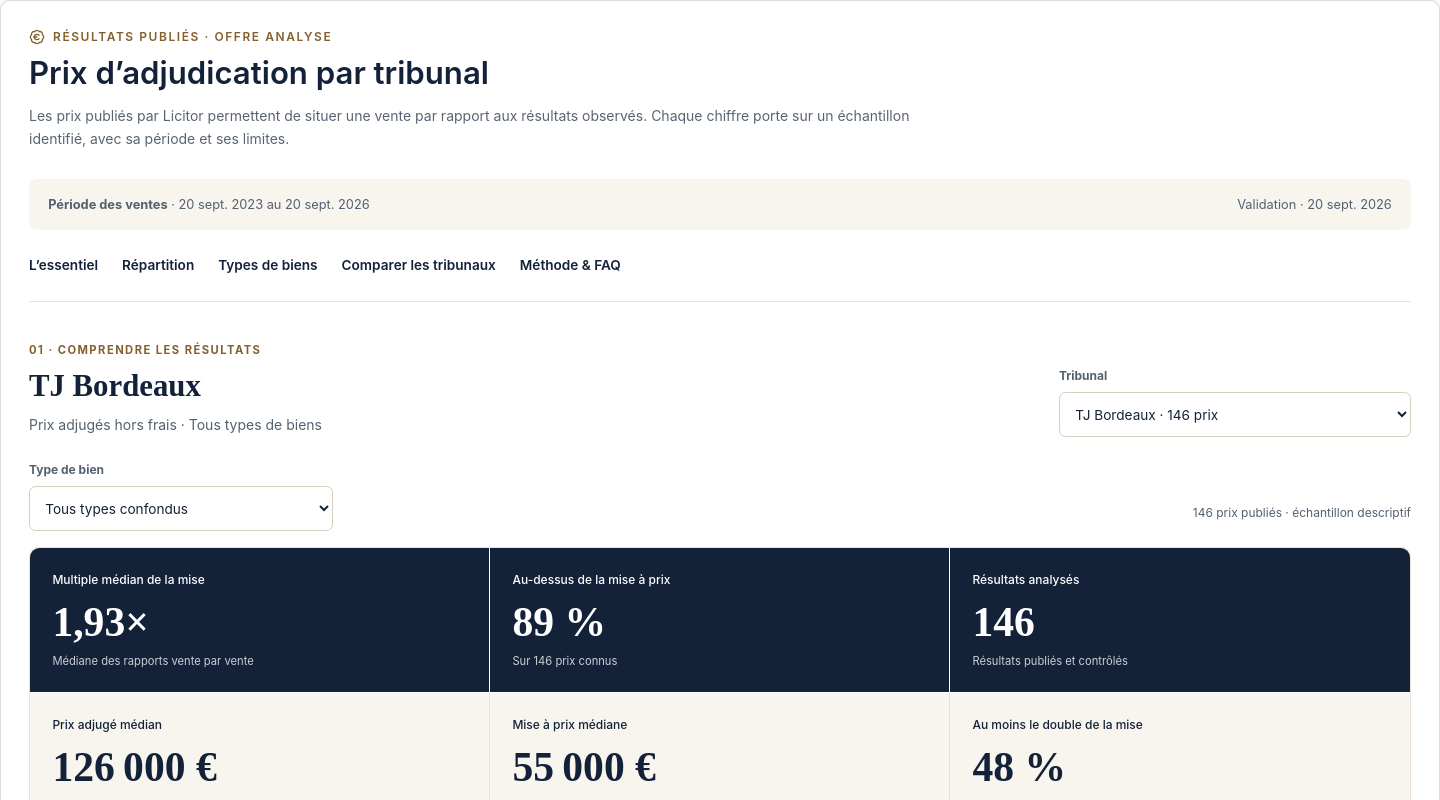
Test: PremiumAdjudicationExplorer › affiche la médiane France et le tribunal exact, puis change de tribunal
This screenshot has width=1440, height=800.
Expected: the heading "Prix d’adjudication par tribunal" is shown, [29,54,489,92]
Expected: the text "126 000 €" is shown, [52,744,217,790]
Select "TJ Paris · 494 prix" in the dropdown labelled "Tribunal" at x=1235, y=415, box [1059,392,1411,437]
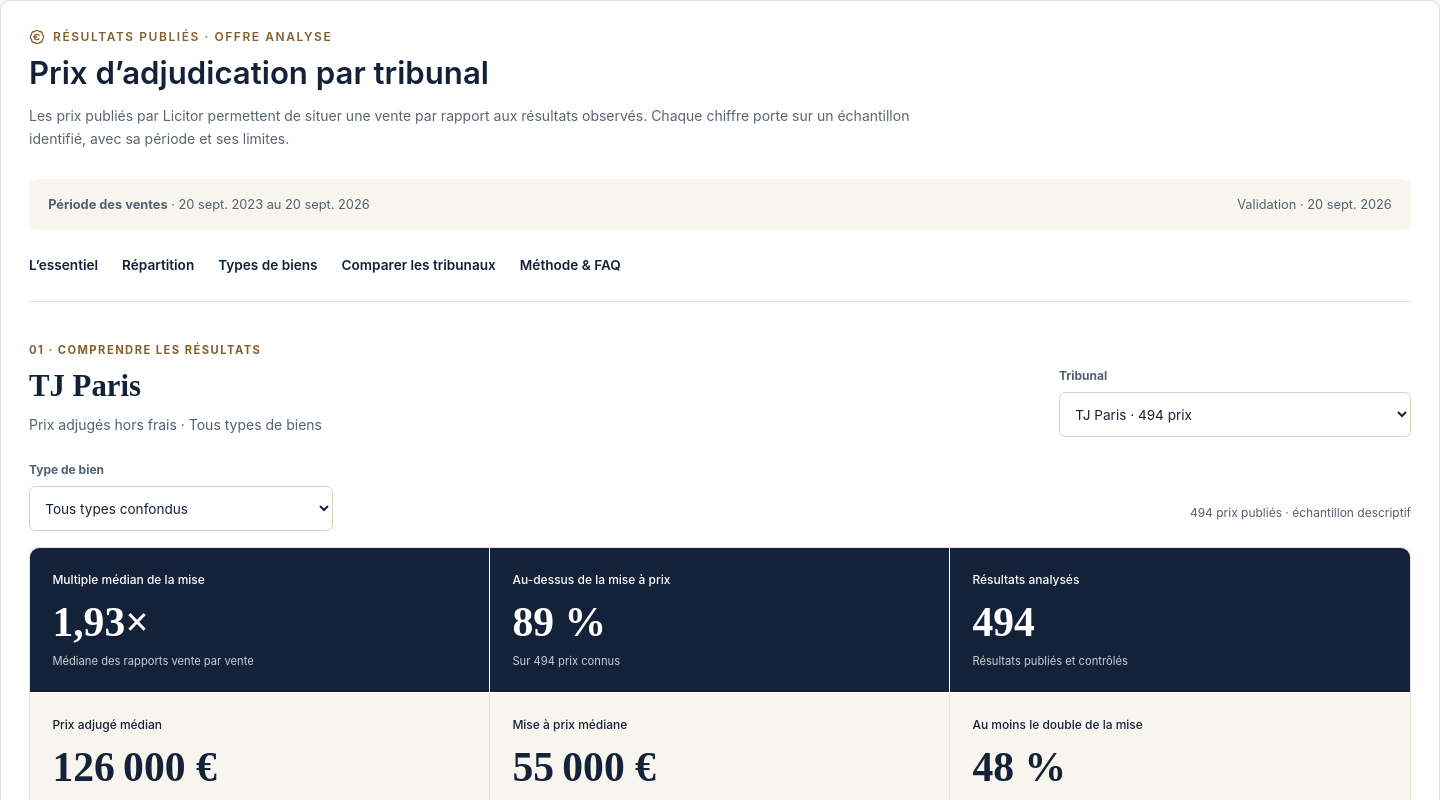
Result: the text "494 prix publiés · échantillon descriptif" is shown at [1190,505,1411,520]
